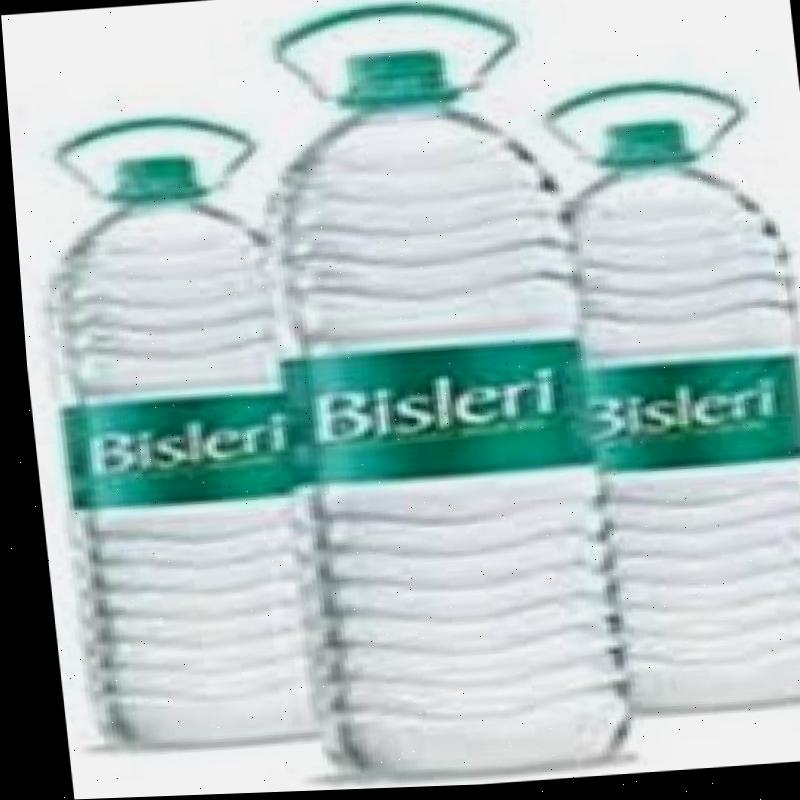botella: (249, 43, 631, 790), (28, 155, 331, 761), (554, 115, 800, 723)
